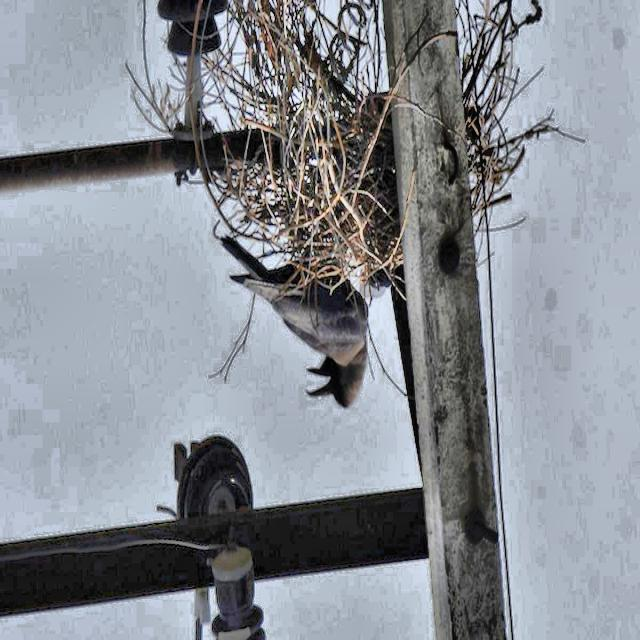crow: (210, 212, 385, 427)
